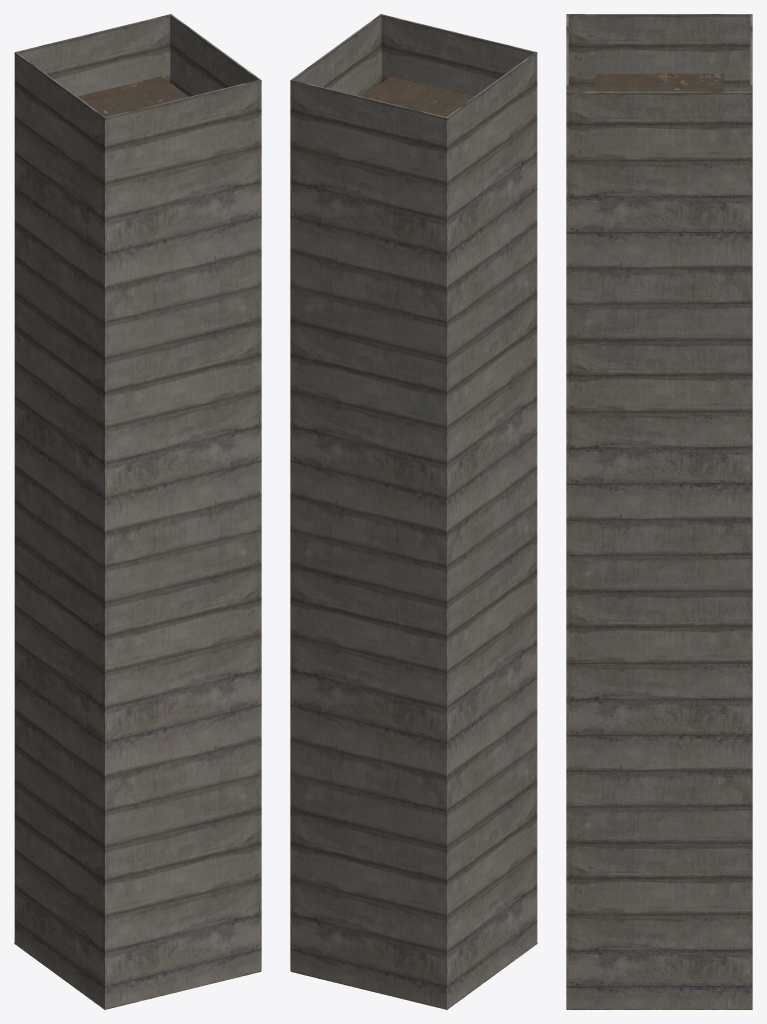
Rendered from The_Last_Nut_Scene.fbx.
The picture shows the model from 3 angles, left to right: view 1: azimuth 30°, elevation 25°; view 2: azimuth 150°, elevation 25°; view 3: azimuth 270°, elevation 25°; orthographic projection. The views are drawn at different scales.
Parts seen in each view (by area): view 1: Wall_4, Wall_1, Wall_3, Wall_2, Monolith_Core; view 2: Wall_3, Wall_1, Wall_4, Wall_2, Monolith_Core; view 3: Wall_2, Wall_1, Wall_3, Wall_4, Monolith_Core.
Part boxes in pixels (x1,y1,x2,y2): Wall_4: (104, 80, 259, 1008); Wall_1: (15, 52, 106, 1008); Wall_3: (14, 14, 171, 942); Wall_2: (170, 15, 261, 970); Monolith_Core: (78, 76, 188, 116); Wall_3: (290, 79, 447, 1008); Wall_1: (445, 52, 536, 1008); Wall_4: (381, 14, 537, 942); Wall_2: (290, 14, 381, 970); Monolith_Core: (363, 76, 473, 116); Wall_2: (566, 91, 750, 1008); Wall_1: (566, 14, 750, 91); Wall_3: (750, 14, 752, 1008); Wall_4: (566, 15, 568, 1008); Monolith_Core: (594, 73, 724, 91).
Size of the model in its own units: 4605 by 25030 by 4600.
